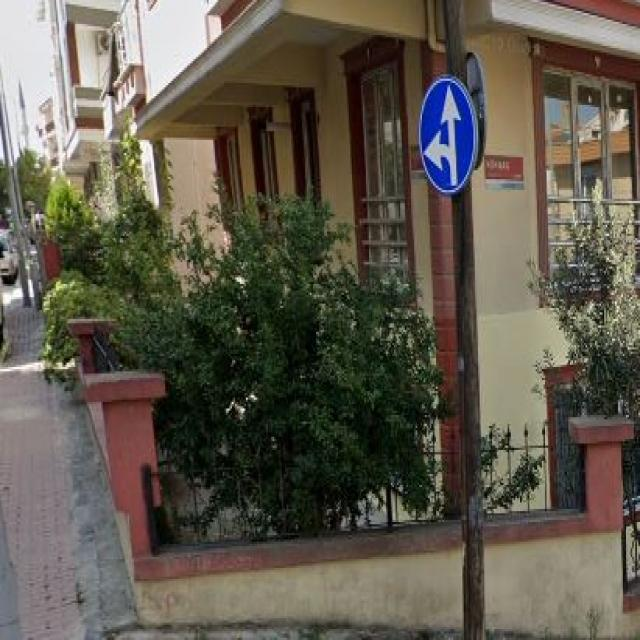ilerisol: (417, 76, 475, 192)
